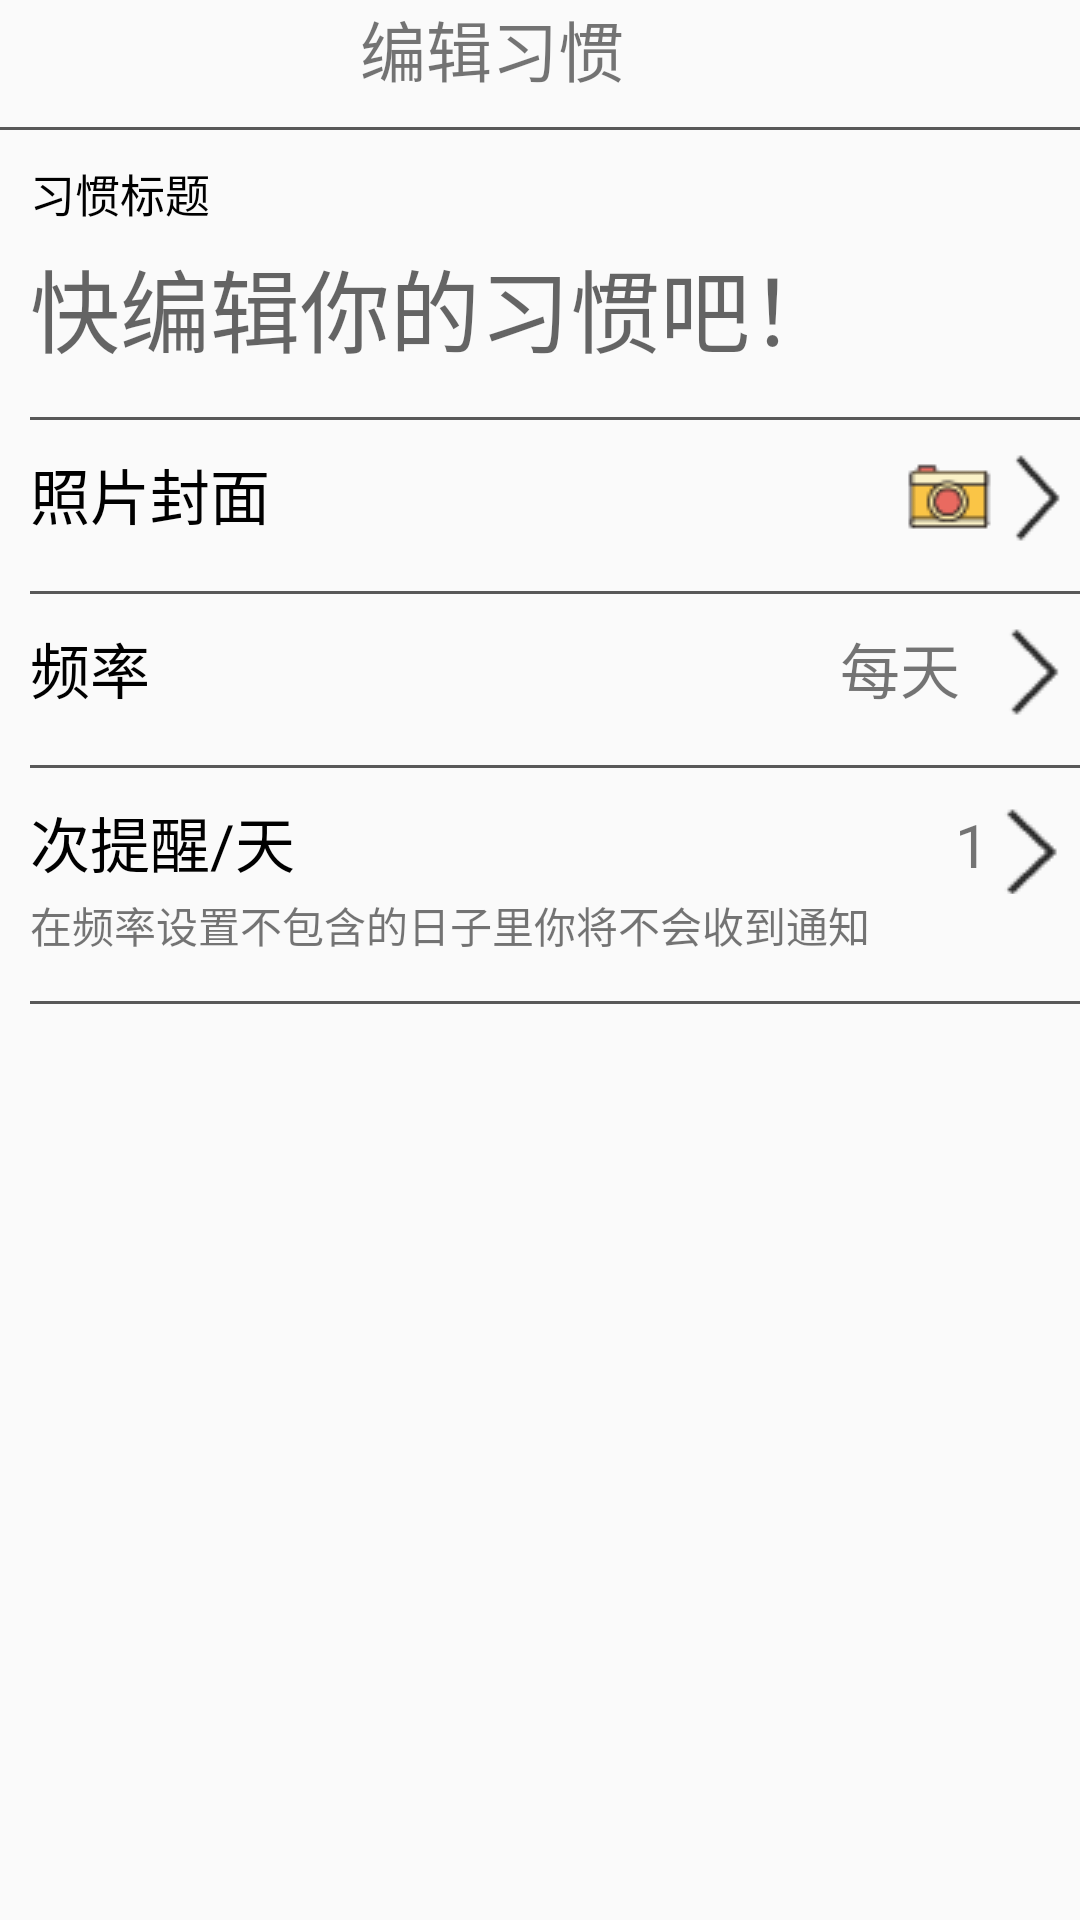

Icon bounding boxes for this 1080x1920 phone screenshot, format rect(x1, y1, x2, y2):
right: rect(1016, 455, 1060, 541), rect(1011, 629, 1058, 715)
